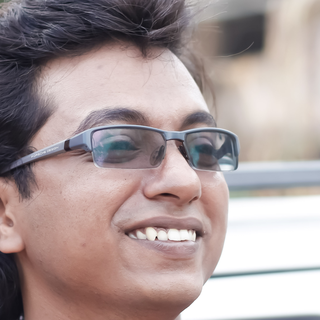eye: (82, 127, 152, 164), (184, 132, 225, 169)
